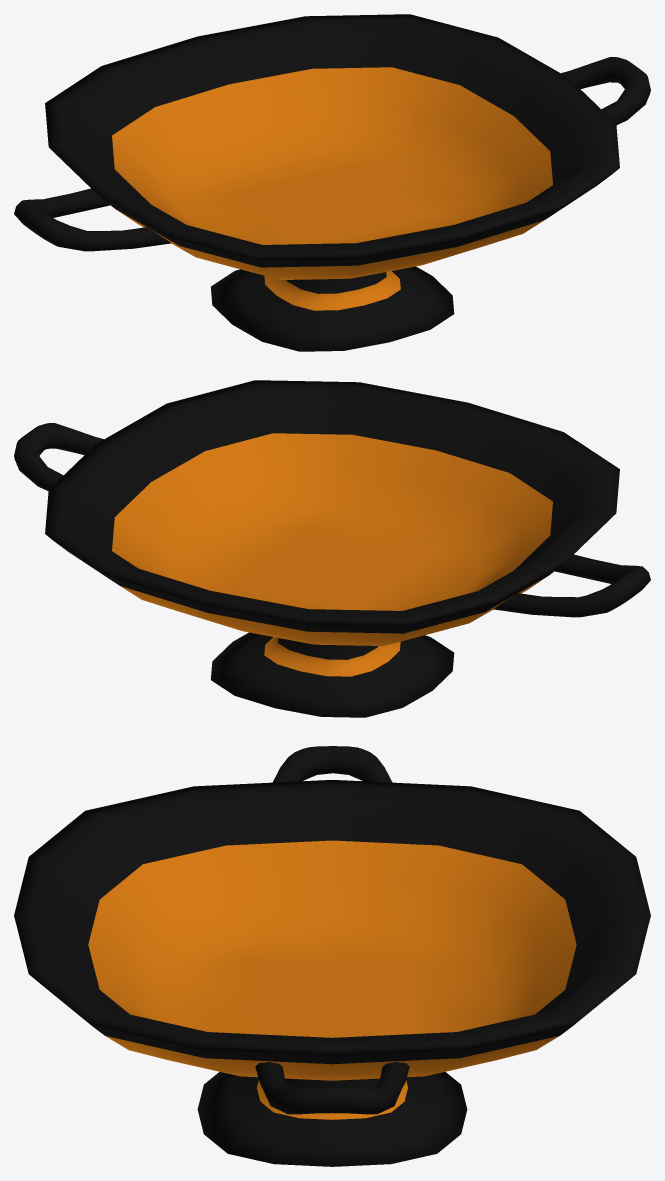
Rendered from Vaso2.fbx.
3 renders of one model, top to bottom at view 1: azimuth 30°, elevation 25°; view 2: azimuth 150°, elevation 25°; view 3: azimuth 270°, elevation 25°, orthographic. The views are drawn at different scales.
Parts seen in each view (by area): view 1: Cube.028, Cube.027; view 2: Cube.028, Cube.027; view 3: Cube.028, Cube.027.
Part boxes in pixels (x1,y1,x2,y2): Cube.028: (45, 14, 619, 351); Cube.027: (14, 57, 650, 251); Cube.028: (45, 380, 619, 717); Cube.027: (14, 423, 650, 617); Cube.028: (14, 780, 650, 1166); Cube.027: (255, 746, 409, 1114).
Size of the model in its own units: 52.68 by 13.53 by 40.27.
